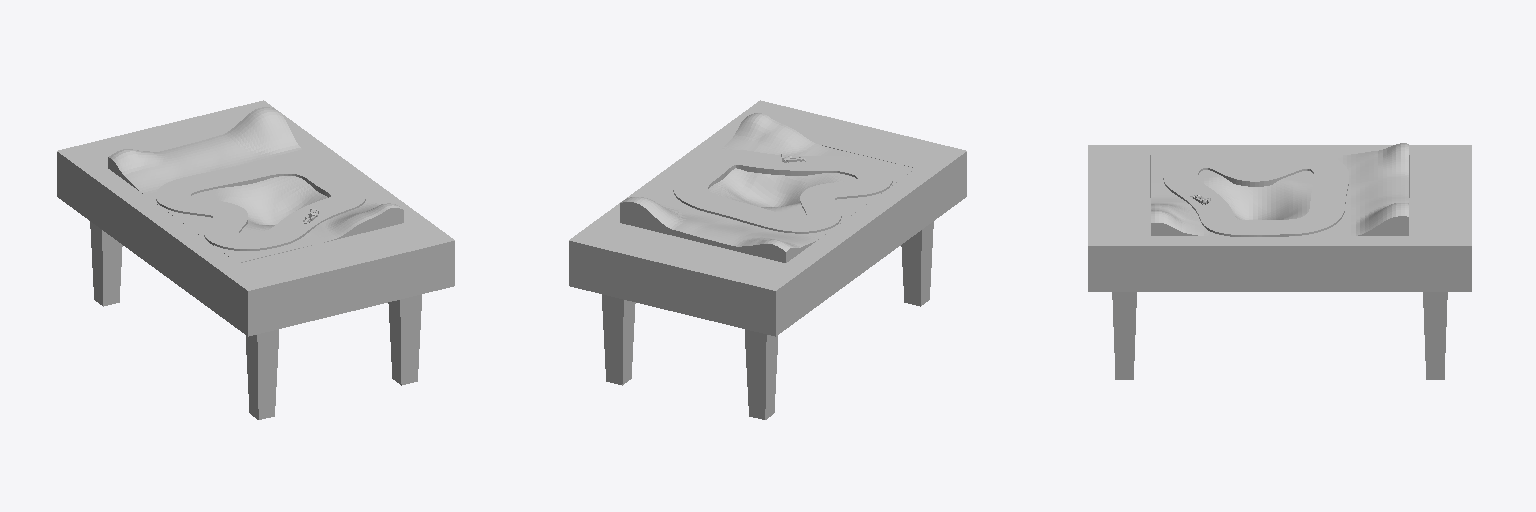
The model's file is NewestTisch44.obj.
3 views of the same model, side by side, from view 1: azimuth 30°, elevation 25°; view 2: azimuth 150°, elevation 25°; view 3: azimuth 270°, elevation 25° (orthographic).
Visible parts, largest first — view 1: Tischplatte_wood_table_001, Landschaft_aerial_grass_rock, off, Bein1_wood_table_001, Bein4_wood_table_001.003, Bein3_wood_table_001.002; view 2: Tischplatte_wood_table_001, Landschaft_aerial_grass_rock, off, Bein2_wood_table_001.001, Bein3_wood_table_001.002, Bein4_wood_table_001.003; view 3: Tischplatte_wood_table_001, Landschaft_aerial_grass_rock, off, Bein1_wood_table_001, Bein2_wood_table_001.001.
Part boxes in pixels (bbox=[...]): Tischplatte_wood_table_001: bbox=[57, 100, 454, 336]; Landschaft_aerial_grass_rock: bbox=[108, 107, 403, 262]; off: bbox=[156, 159, 365, 250]; Bein1_wood_table_001: bbox=[388, 294, 421, 385]; Bein4_wood_table_001.003: bbox=[246, 329, 278, 419]; Bein3_wood_table_001.002: bbox=[90, 221, 122, 306]; Tischplatte_wood_table_001: bbox=[569, 100, 966, 336]; Landschaft_aerial_grass_rock: bbox=[620, 113, 915, 262]; off: bbox=[673, 150, 892, 233]; Bein2_wood_table_001.001: bbox=[602, 294, 635, 385]; Bein3_wood_table_001.002: bbox=[745, 329, 777, 419]; Bein4_wood_table_001.003: bbox=[901, 221, 933, 306]; Tischplatte_wood_table_001: bbox=[1088, 145, 1471, 291]; Landschaft_aerial_grass_rock: bbox=[1151, 143, 1408, 235]; off: bbox=[1163, 153, 1348, 236]; Bein1_wood_table_001: bbox=[1112, 292, 1136, 379]; Bein2_wood_table_001.001: bbox=[1423, 292, 1447, 379].
Bounding box in the file's own units: 5 × 3.91 × 8.